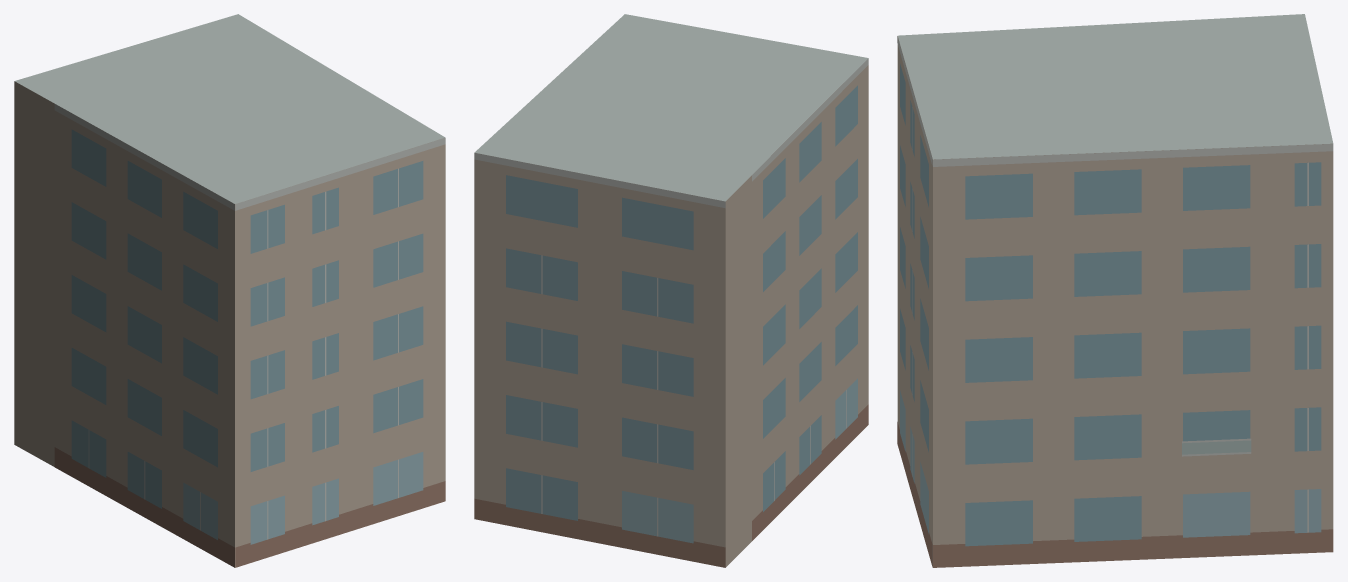
File: survey-upis-32736687.glb
3 views of the same model, side by side, from view 1: azimuth 30°, elevation 25°; view 2: azimuth 150°, elevation 25°; view 3: azimuth 270°, elevation 25° (orthographic). The views are drawn at different scales.
Visible parts, largest first — view 1: survey-upis-32736687.tmp; view 2: survey-upis-32736687.tmp; view 3: survey-upis-32736687.tmp.
Boxes of the visible parts, box(x1,y1,x2,y2) form: survey-upis-32736687.tmp: box(14, 14, 445, 567); survey-upis-32736687.tmp: box(474, 14, 868, 567); survey-upis-32736687.tmp: box(897, 14, 1333, 567).
Bounding box in the file's own units: 10.09 × 13.2 × 12.78.
